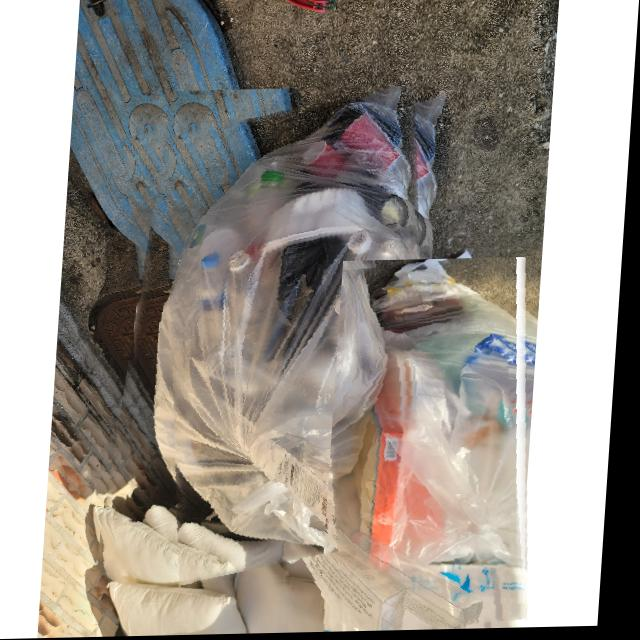other_trashbag: (158, 88, 434, 587), (339, 260, 535, 633)
